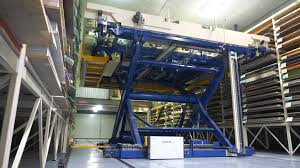Scissor Lift: (91, 8, 270, 159)
